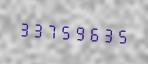five: (115, 22, 128, 47), (59, 19, 72, 43)
nine: (73, 19, 86, 44)
seven: (45, 18, 58, 42)
six: (87, 20, 100, 45)
three: (101, 21, 114, 46), (17, 16, 30, 40), (31, 17, 44, 41)
